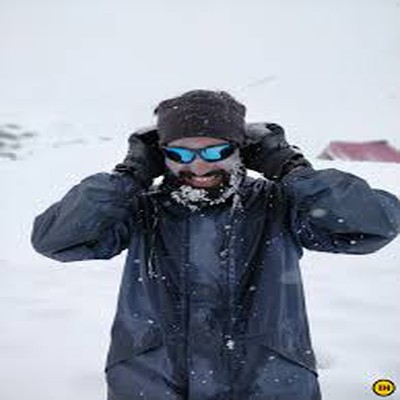eywear: (147, 116, 255, 171)
